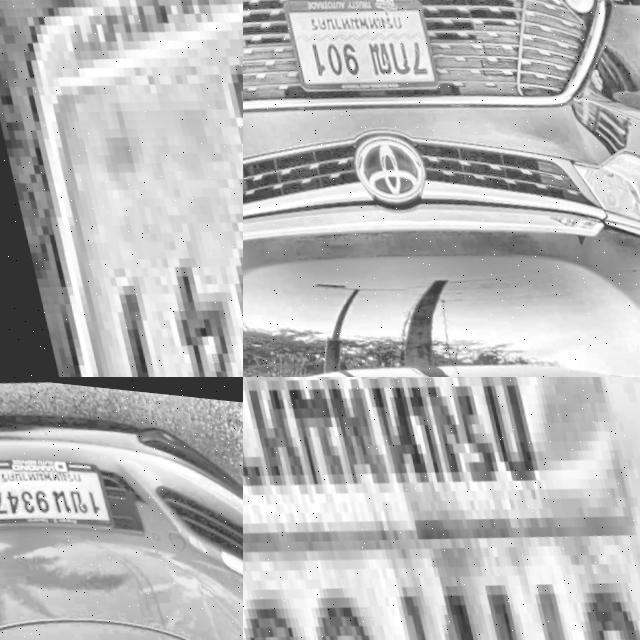license-plate: (243, 377, 640, 640), (0, 0, 243, 377), (273, 0, 438, 99), (0, 428, 120, 536)
